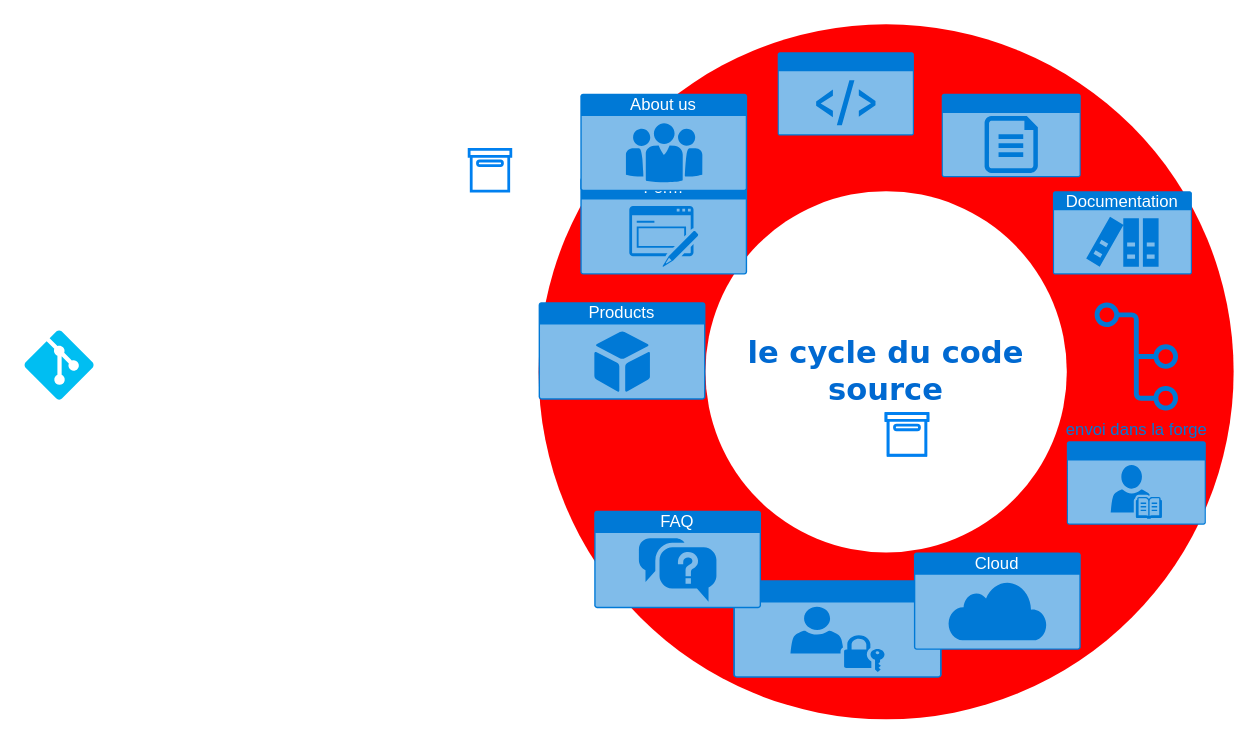
The diagram is 1257 pixels wide and 742 high, and some of its shapes have lost their labels. The shapes that lost their labels are listed below. From the top down, each one's centre as x and y in pixels, then its label:
At pixel 845 93: "Script".
At pixel 1010 135: "README".
At pixel 1135 482: "codemeta.json".
At pixel 837 628: "Login".
